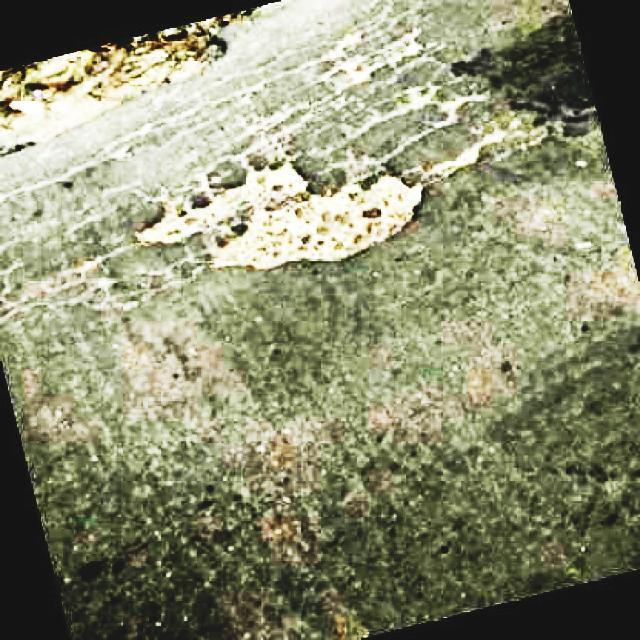pothole: (134, 164, 429, 264)
